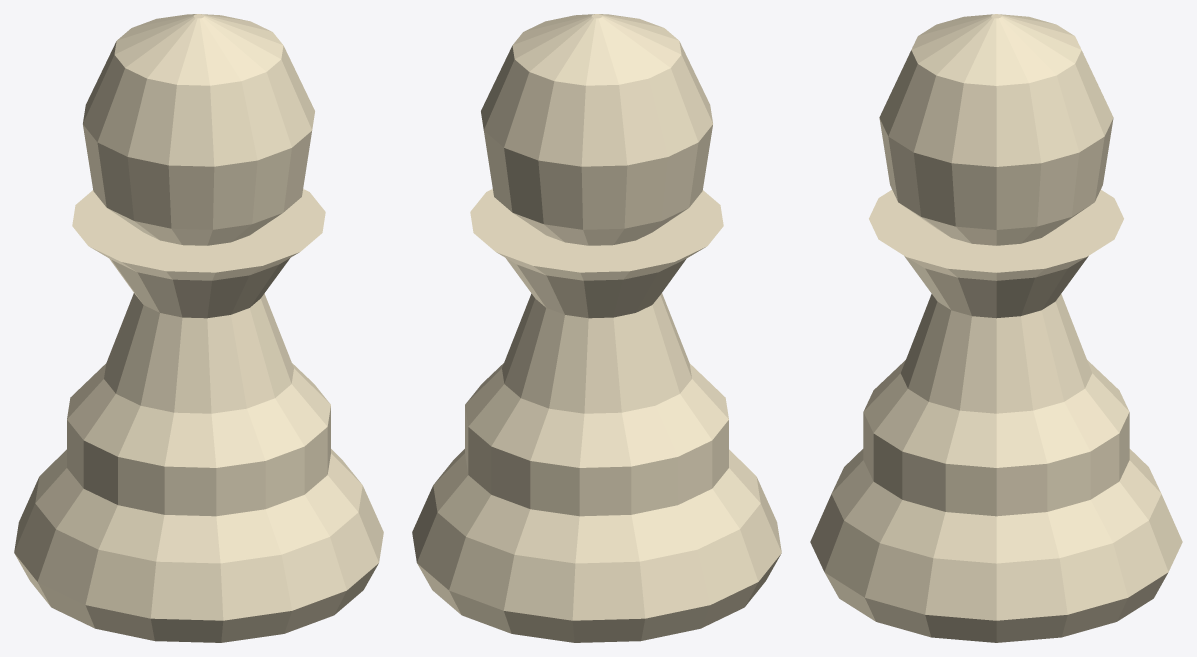
The model's file is SM_IntellectualGrandpaHouse_Chess_White_Pawn.fbx.
The picture shows the model from 3 angles, left to right: view 1: azimuth 30°, elevation 25°; view 2: azimuth 150°, elevation 25°; view 3: azimuth 270°, elevation 25°; orthographic projection.
Parts seen in each view (by area): view 1: SM_IntellectualGrandpaHouse_Chess_White_Pawn; view 2: SM_IntellectualGrandpaHouse_Chess_White_Pawn; view 3: SM_IntellectualGrandpaHouse_Chess_White_Pawn.
Boxes of the visible parts, x1=… form: SM_IntellectualGrandpaHouse_Chess_White_Pawn: x1=14, y1=14, x2=383, y2=642; SM_IntellectualGrandpaHouse_Chess_White_Pawn: x1=412, y1=14, x2=781, y2=642; SM_IntellectualGrandpaHouse_Chess_White_Pawn: x1=810, y1=14, x2=1182, y2=642.
Bounding box in the file's own units: 7 × 7 × 11.5.
